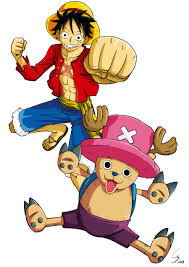chopper: (78, 105, 180, 199)
luffy: (44, 1, 101, 54)
